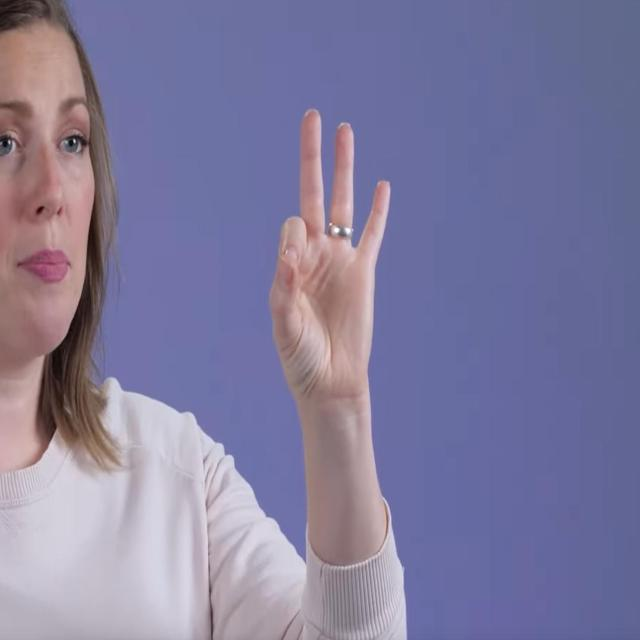F: (263, 100, 394, 408)
